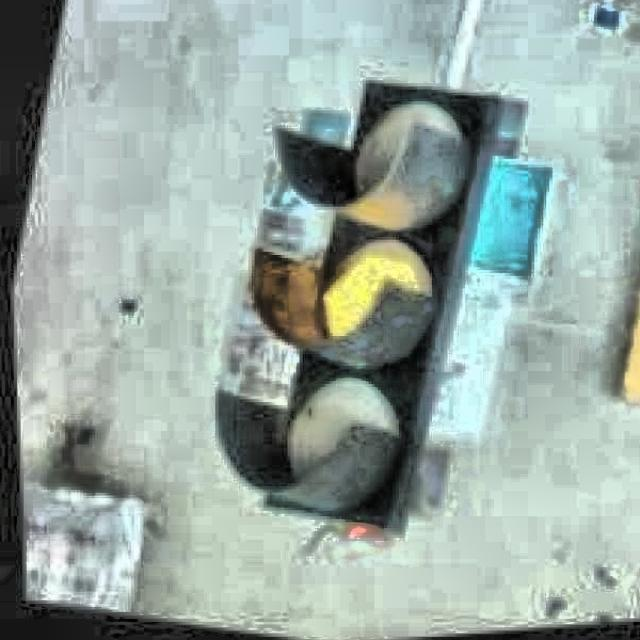yellow: (283, 70, 471, 532)
